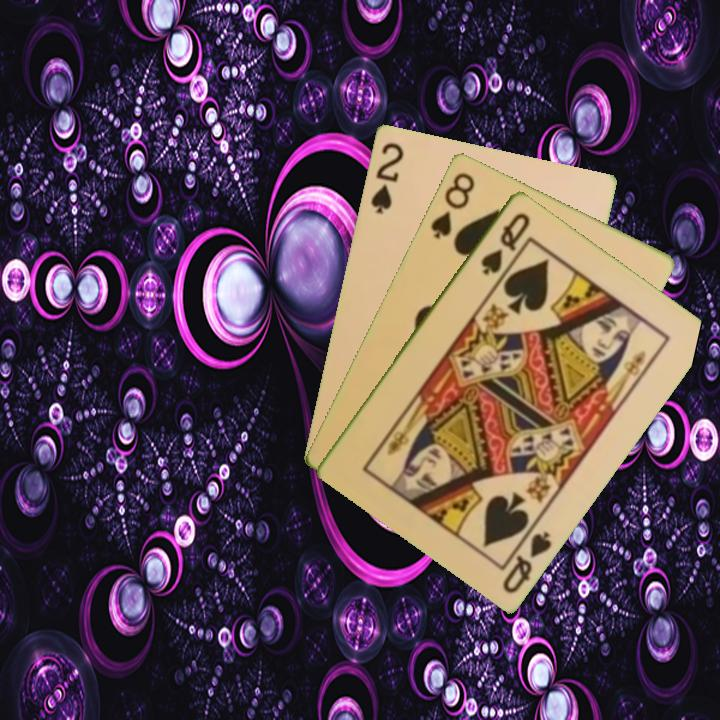2s: (367, 138, 407, 216)
8s: (427, 168, 478, 242)
Qs: (498, 527, 555, 596), (477, 208, 533, 278)
